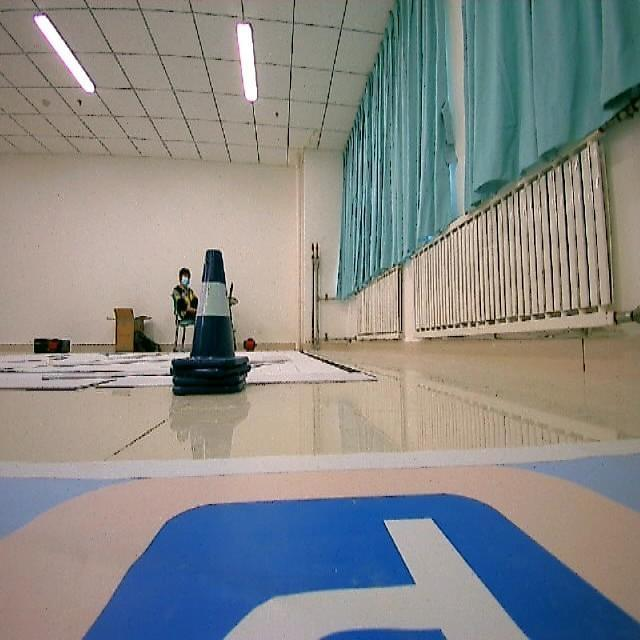obstacle: (171, 238, 261, 413)
